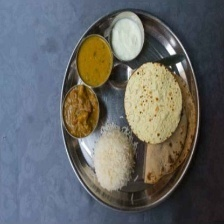dal: (75, 34, 114, 87)
